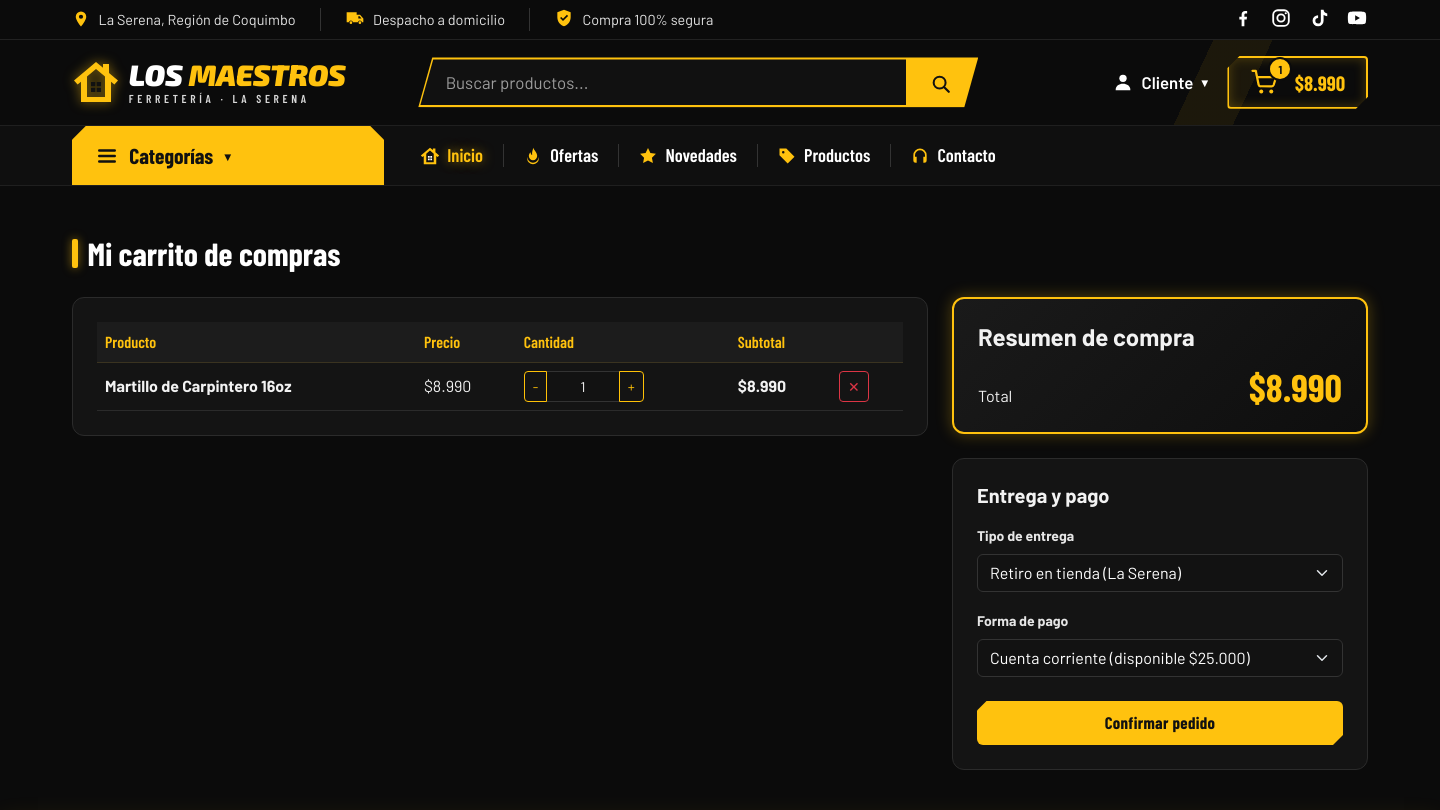
Test: Página Carrito › el cliente con cuenta corriente ve la opción de pagar con su cupo y el aviso del saldo
Select "Cuenta corriente (disponible $25.000)" in the dropdown with id "formaPago" at (1160, 658), box [977,638,1343,676]
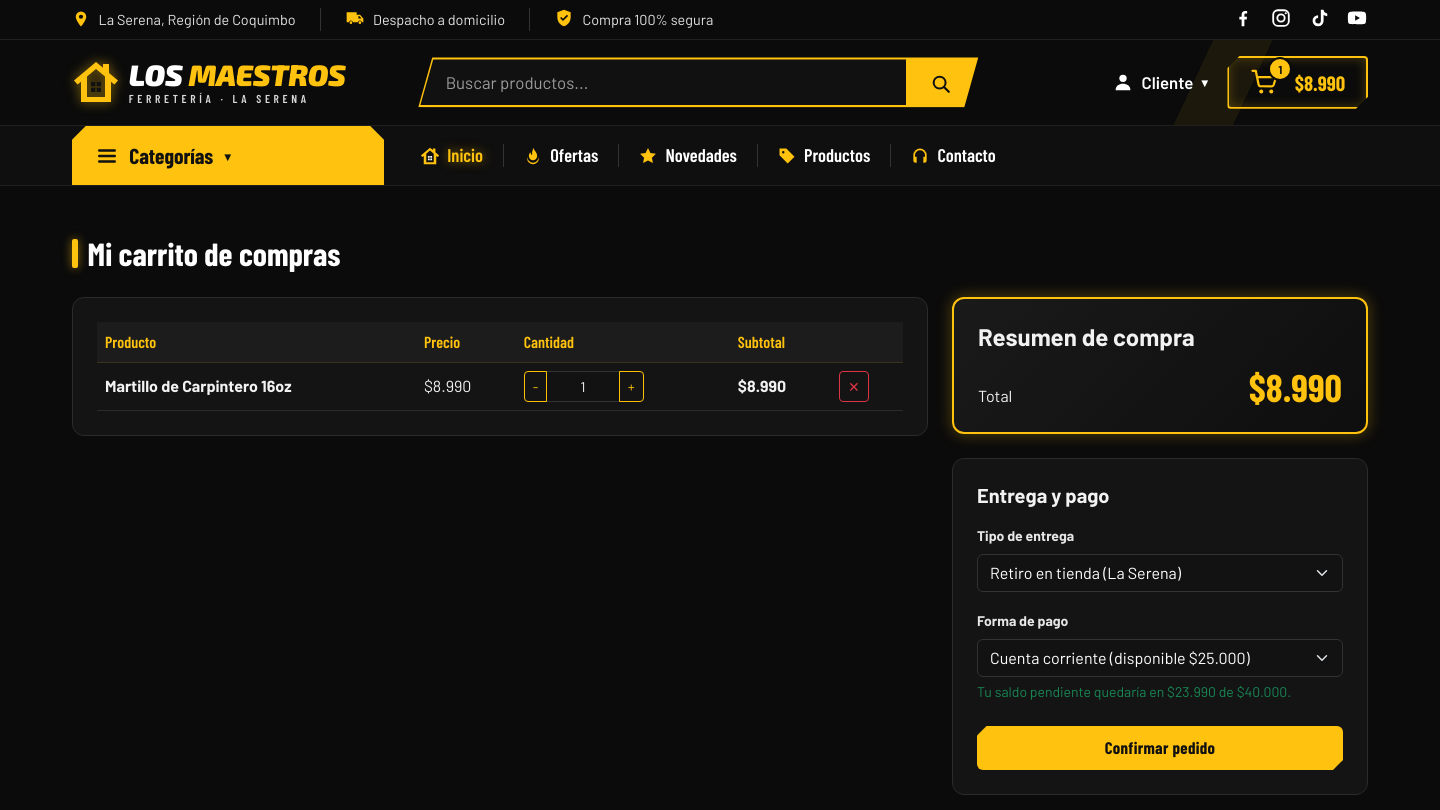
Expected: the text "Tu saldo pendiente quedaría en $23.990 de $40.000" is shown, [977,682,1291,700]
